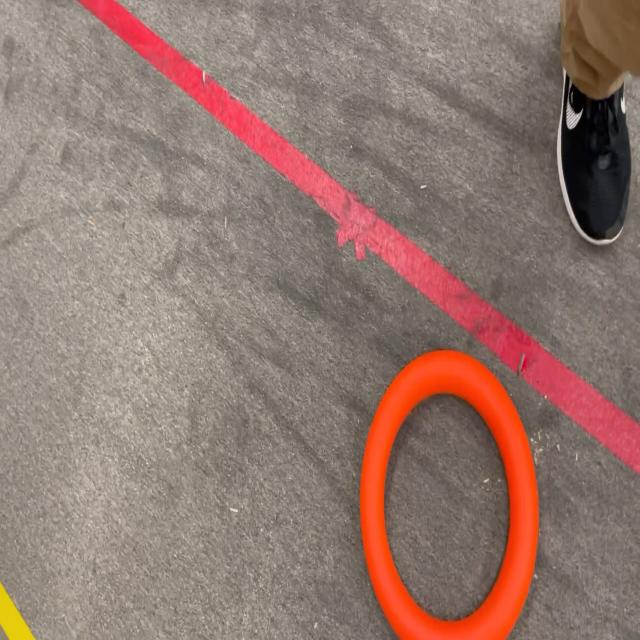note: (359, 350, 536, 640)
